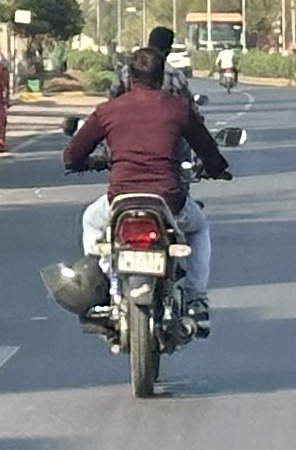BikeWithRider: (38, 42, 263, 406), (211, 35, 246, 95)
NoHelmet: (121, 42, 168, 98)
